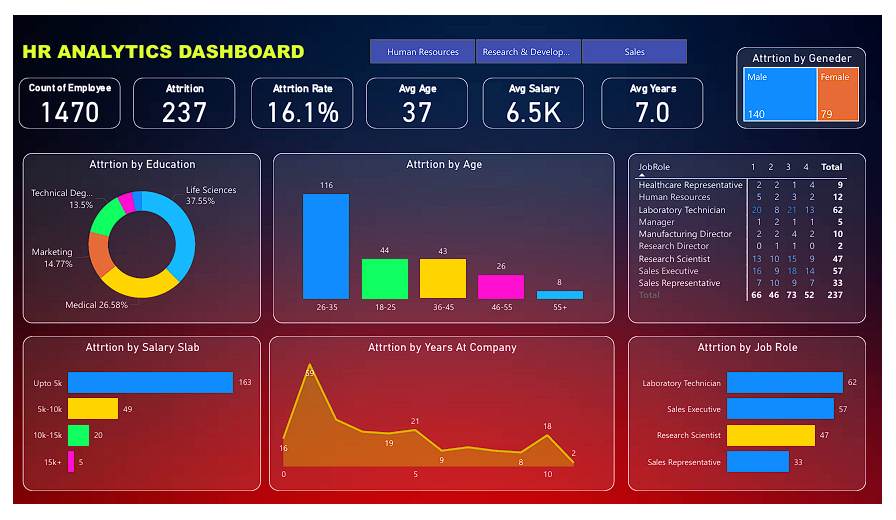

What the dashboard file says about the page in this screenshot:
{"tool":"powerbi","page":{"name":"Page 1","canvas":[1280,720],"ordinal":0},"visuals":[{"type":"card","title":"Count of Employee ","fields":{"Values":["Count(HR_Analytics.EmpID)"]},"box":[8.2,91.9,149.6,75.5],"z":0},{"type":"card","title":"Attrition","fields":{"Values":["Sum(HR_Analytics.AttritionCount)"]},"box":[177,91.9,149.6,75.5],"z":1000},{"type":"card","title":"Attrtion Rate ","fields":{"Values":["HR_Analytics.AttritionRate"]},"box":[351.3,91.9,149.6,75.5],"z":2000},{"type":"card","title":"Avg Age ","fields":{"Values":["Avg(HR_Analytics.Age)"]},"box":[520.1,91.9,149.6,75.5],"z":3000},{"type":"card","title":"Avg Salary","fields":{"Values":["Avg(HR_Analytics.MonthlyIncome)"]},"box":[691.6,91.9,149.6,75.5],"z":4000},{"type":"card","title":"Avg Years","fields":{"Values":["Avg(HR_Analytics.YearsAtCompany)"]},"box":[867.2,91.9,149.6,75.5],"z":5000},{"type":"donutChart","title":"Attrtion by Education","fields":{"Category":["HR_Analytics.EducationField"],"Y":["Sum(HR_Analytics.AttritionCount)"]},"box":[13.7,203.1,351.3,251.1],"z":6000},{"type":"columnChart","title":"Attrtion by Age","fields":{"Category":["HR_Analytics.AgeGroup"],"Y":["Sum(HR_Analytics.AttritionCount)"]},"box":[382.8,203.1,503.6,251.1],"z":7000},{"type":"pivotTable","fields":{"Rows":["HR_Analytics.JobRole"],"Columns":["HR_Analytics.JobSatisfaction"],"Values":["Sum(HR_Analytics.AttritionCount)"]},"box":[905.7,203.1,351.3,251.1],"z":8000},{"type":"barChart","title":"Attrtion by Salary Slab","fields":{"Category":["HR_Analytics.SalarySlab"],"Y":["Sum(HR_Analytics.AttritionCount)"]},"box":[13.7,473.4,351.3,227.8],"z":9000},{"type":"barChart","title":"Attrtion by Job Role ","fields":{"Category":["HR_Analytics.JobRole"],"Y":["Sum(HR_Analytics.AttritionCount)"]},"box":[905.7,473.4,351.3,227.8],"z":10000},{"type":"areaChart","title":"Attrtion by Years At Company","fields":{"Category":["HR_Analytics.YearsAtCompany"],"Y":["Sum(HR_Analytics.AttritionCount)"]},"box":[377.4,473.4,509.1,227.8],"z":11000},{"type":"treemap","title":"Attrtion by Geneder","fields":{"Group":["HR_Analytics.Gender"],"Values":["Sum(HR_Analytics.AttritionCount)"]},"box":[1066.2,46.7,190.7,120.8],"z":12000},{"type":"slicer","fields":{"Values":["HR_Analytics.Department"]},"box":[500.9,28.8,516,49.4],"z":12001},{"type":"textbox","box":[7.8,29,512.5,49.1],"z":12002}]}

Visuals, with their boxes on the page's 1280x720 design canvas (x1, y1, x2, y2). These are canvas units, not pixel positions in the 896x520 screenshot, which may show the page scaled, cropped or inside an application window:
"Count of Employee " card: crop(8, 92, 158, 167)
"Attrition" card: crop(177, 92, 327, 167)
"Attrtion Rate " card: crop(351, 92, 501, 167)
"Avg Age " card: crop(520, 92, 670, 167)
"Avg Salary" card: crop(692, 92, 841, 167)
"Avg Years" card: crop(867, 92, 1017, 167)
"Attrtion by Education" donutChart: crop(14, 203, 365, 454)
"Attrtion by Age" columnChart: crop(383, 203, 886, 454)
pivotTable - HR_Analytics.JobRole x HR_Analytics.JobSatisfaction: crop(906, 203, 1257, 454)
"Attrtion by Salary Slab" barChart: crop(14, 473, 365, 701)
"Attrtion by Job Role " barChart: crop(906, 473, 1257, 701)
"Attrtion by Years At Company" areaChart: crop(377, 473, 886, 701)
"Attrtion by Geneder" treemap: crop(1066, 47, 1257, 168)
slicer - HR_Analytics.Department: crop(501, 29, 1017, 78)
textbox: crop(8, 29, 520, 78)
